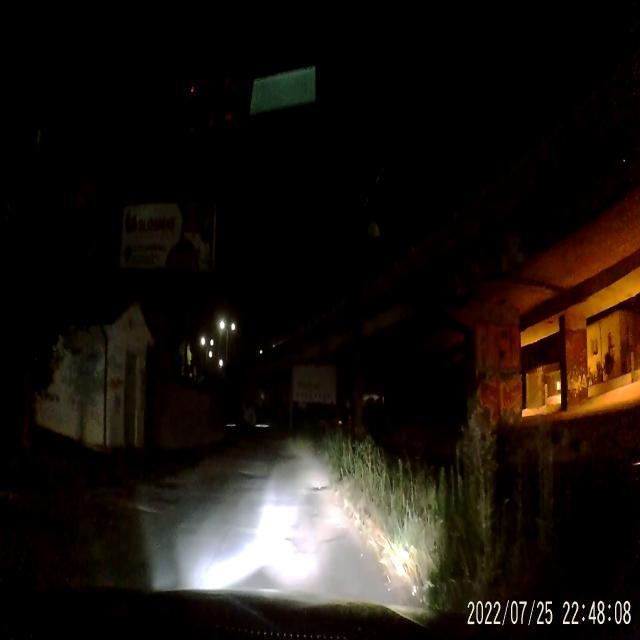Pothole: (281, 532, 329, 554), (132, 502, 162, 517), (235, 472, 270, 484), (310, 478, 330, 497)
